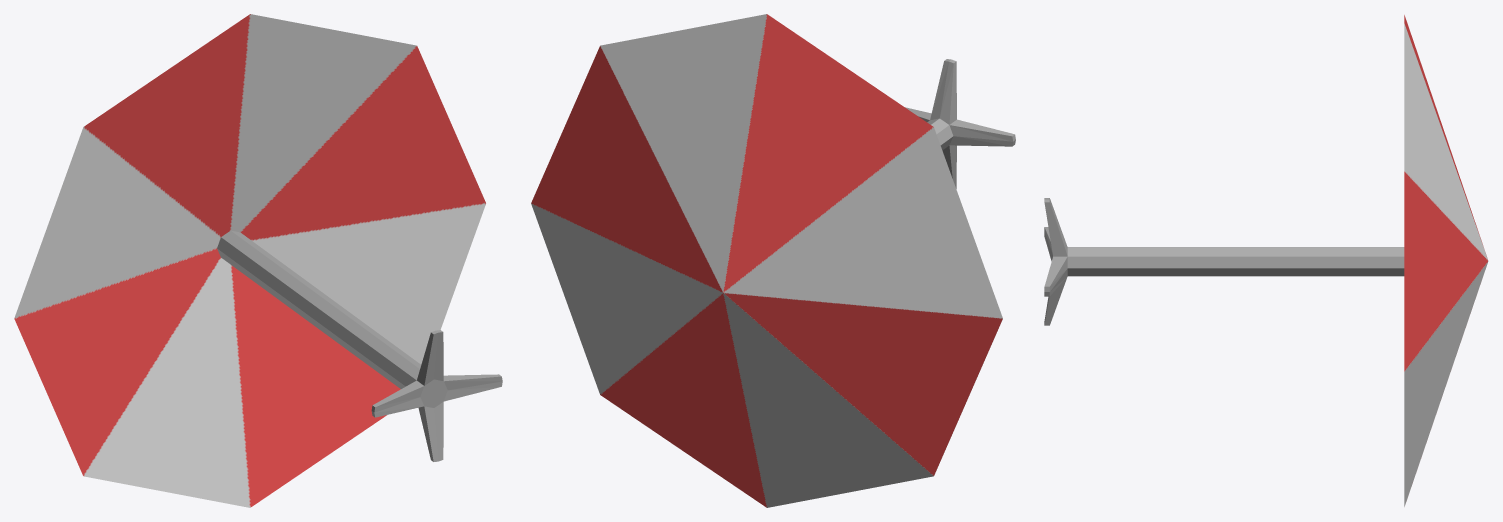
Rendered from store-umbrella-red.obj.
3 views of the same model, side by side, from view 1: azimuth 30°, elevation 25°; view 2: azimuth 150°, elevation 25°; view 3: azimuth 270°, elevation 25° (orthographic). The views are drawn at different scales.
Parts seen in each view (by area): view 1: store-umbrella-red_Circle.021; view 2: store-umbrella-red_Circle.021; view 3: store-umbrella-red_Circle.021.
Boxes of the visible parts, bbox=[...] form: store-umbrella-red_Circle.021: bbox=[14, 14, 502, 507]; store-umbrella-red_Circle.021: bbox=[531, 14, 1015, 507]; store-umbrella-red_Circle.021: bbox=[1044, 15, 1488, 506].
Bounding box in the file's own units: 3.06 × 3.06 × 2.58.
